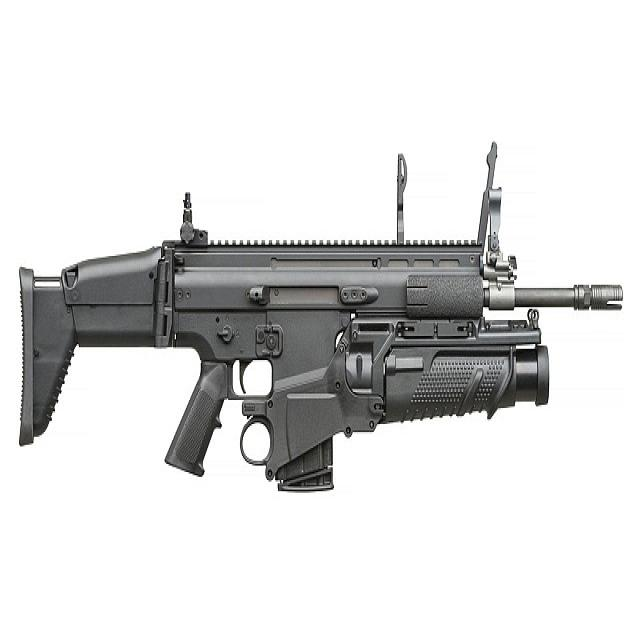Gun: (6, 206, 634, 514)
